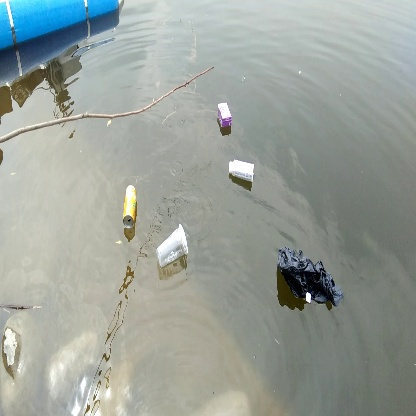bottle: (157, 224, 189, 268), (120, 182, 140, 231)
milk-box: (214, 99, 233, 131)
plastic-bag: (275, 246, 344, 307)
